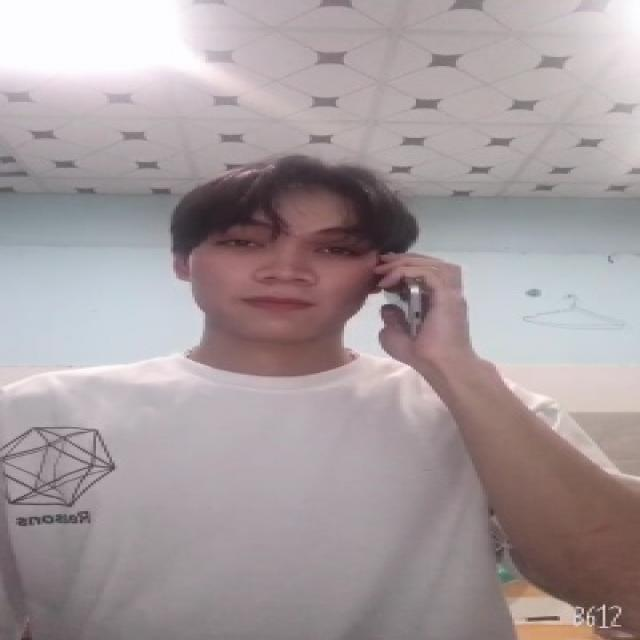Phone: (377, 264, 431, 342)
